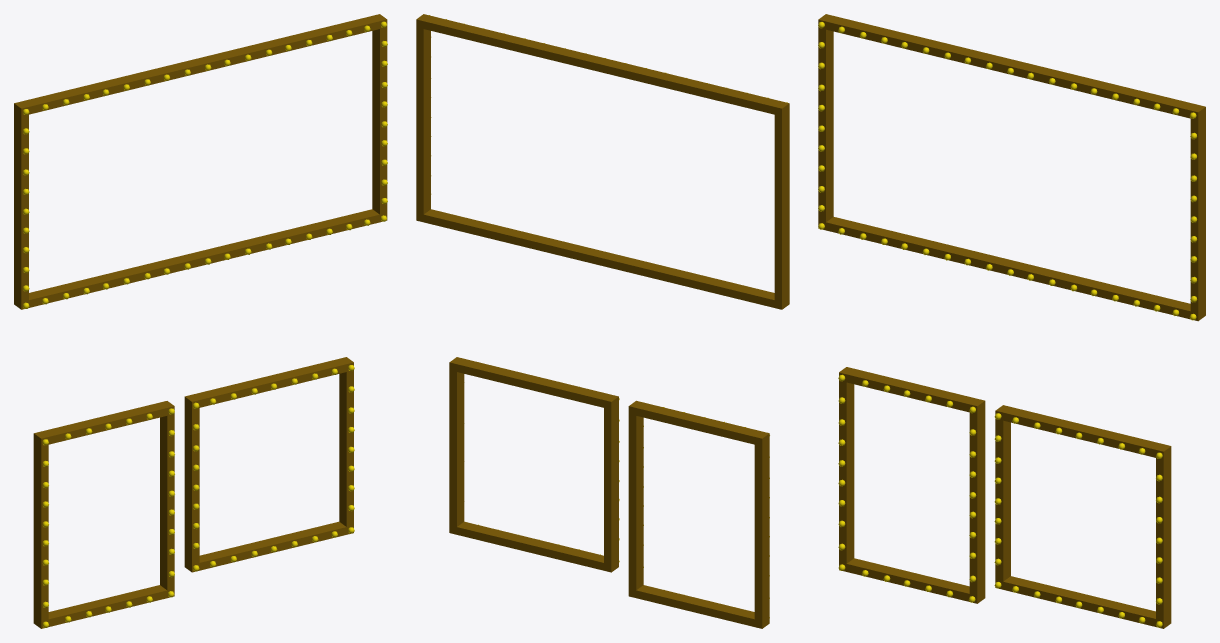
The model's file is WoodFrame_poster.fbx.
3 views of the same model, side by side, from view 1: azimuth 30°, elevation 25°; view 2: azimuth 150°, elevation 25°; view 3: azimuth 330°, elevation 25° (orthographic). The views are drawn at different scales.
Parts seen in each view (by area): view 1: pCube124, pCube123, pCube122; view 2: pCube124, pCube123, pCube122; view 3: pCube124, pCube123, pCube122.
Part boxes in pixels (x1=…): pCube124: x1=14, y1=14, x2=387, y2=309; pCube123: x1=184, y1=357, x2=354, y2=572; pCube122: x1=33, y1=401, x2=174, y2=628; pCube124: x1=416, y1=14, x2=789, y2=309; pCube123: x1=449, y1=357, x2=619, y2=572; pCube122: x1=628, y1=400, x2=769, y2=628; pCube124: x1=818, y1=14, x2=1205, y2=321; pCube123: x1=994, y1=405, x2=1171, y2=628; pCube122: x1=838, y1=367, x2=985, y2=603.
Size of the model in its own units: 7.62 by 10.45 by 0.3553.
